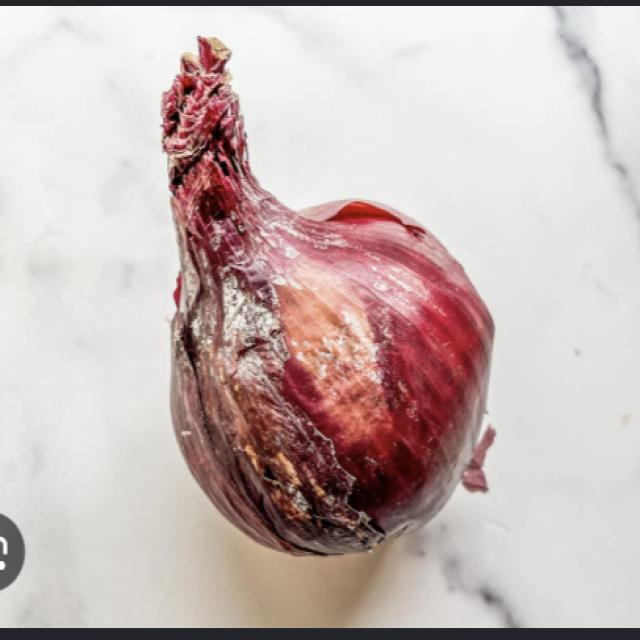mechanical_damage: (163, 37, 493, 553)
